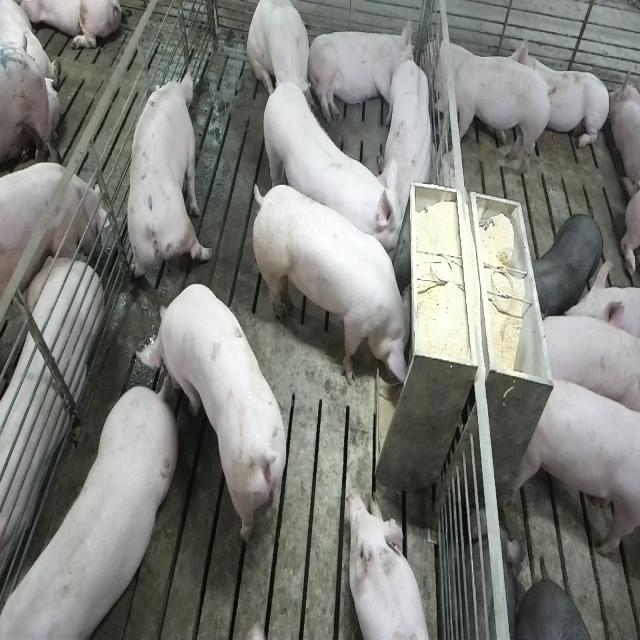Feeding: (255, 178, 420, 398)
Lateral_lying: (0, 241, 103, 594), (307, 19, 416, 127)
Sitting: (247, 1, 315, 116)
Standing: (0, 383, 175, 640), (140, 286, 292, 550), (258, 78, 395, 264), (508, 376, 638, 563), (125, 65, 210, 291), (424, 45, 554, 183), (0, 162, 107, 308), (534, 312, 638, 418), (528, 210, 604, 316)
Sternal_lying: (349, 486, 435, 640), (511, 31, 610, 154), (379, 53, 437, 236)
